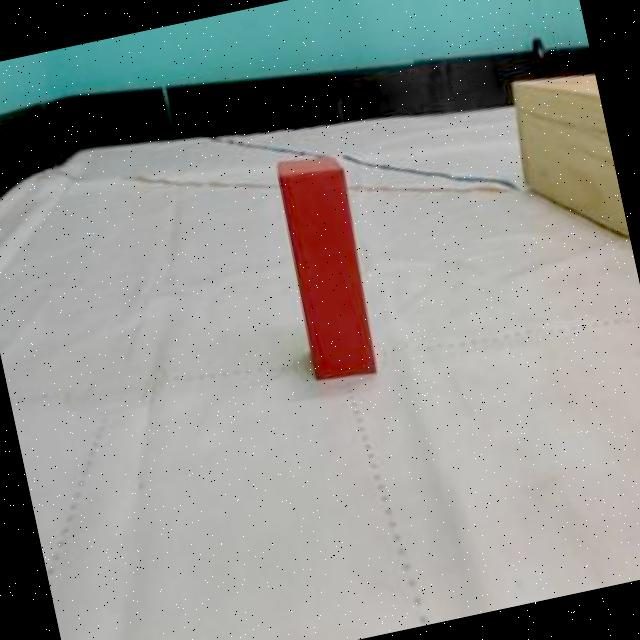redbox: (268, 147, 386, 385)
